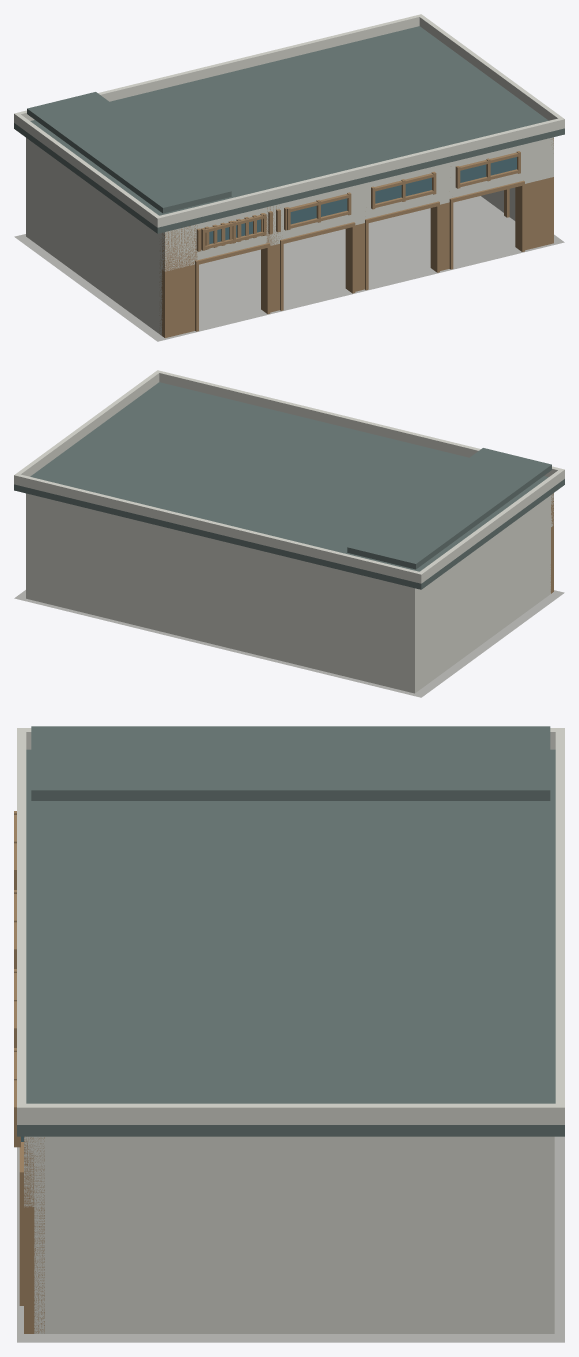
The model's file is cart_garage_03.glb.
3 views of the same model, one above another, from view 1: azimuth 30°, elevation 25°; view 2: azimuth 150°, elevation 25°; view 3: azimuth 270°, elevation 25° (orthographic). The views are drawn at different scales.
Parts seen in each view (by area): view 1: Cart_garage_03; view 2: Cart_garage_03; view 3: Cart_garage_03.
Boxes of the visible parts, x1,y1,x2,y2 form: Cart_garage_03: (14, 14, 564, 341); Cart_garage_03: (14, 370, 564, 697); Cart_garage_03: (14, 726, 564, 1342).
Bounding box in the file's own units: 15.4 × 4.65 × 9.45.
